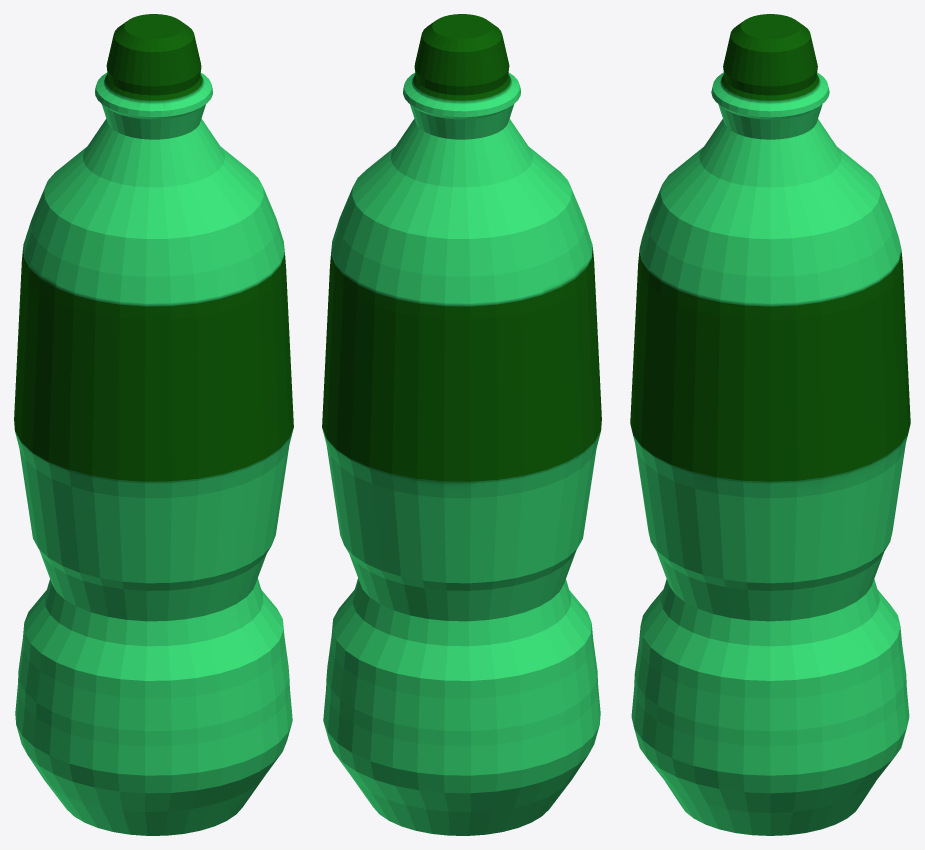
Rendered from Sprite.fbx.
The picture shows the model from 3 angles, left to right: view 1: azimuth 30°, elevation 25°; view 2: azimuth 150°, elevation 25°; view 3: azimuth 270°, elevation 25°; orthographic projection.
Parts seen in each view (by area): view 1: Cylinder; view 2: Cylinder; view 3: Cylinder.
Boxes of the visible parts, left/top/right/bottom form: Cylinder: left=14, top=14, right=293, bottom=835; Cylinder: left=322, top=14, right=601, bottom=835; Cylinder: left=630, top=14, right=910, bottom=835.
Bounding box in the file's own units: 6.72 × 20.37 × 6.72.
